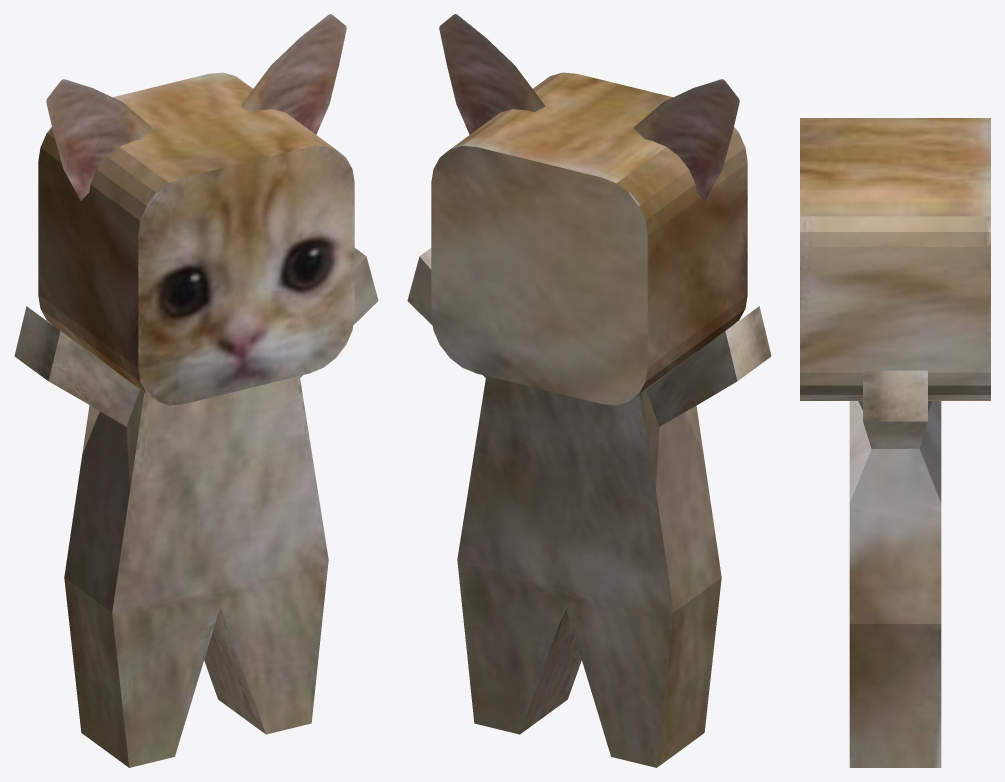
File: Cheering.fbx
3 views of the same model, side by side, from view 1: azimuth 30°, elevation 25°; view 2: azimuth 150°, elevation 25°; view 3: azimuth 270°, elevation 25° (orthographic). The views are drawn at different scales.
Parts seen in each view (by area): view 1: Body, head, ear.r, ear.l; view 2: Body, head, ear.r, ear.l; view 3: head, Body.
Part boxes in pixels (x1,y1,x2,y2): Body: (14, 248, 378, 767); head: (38, 72, 354, 405); ear.r: (46, 79, 152, 200); ear.l: (240, 14, 346, 134); Body: (407, 248, 771, 767); head: (431, 72, 747, 405); ear.r: (633, 79, 739, 200); ear.l: (439, 14, 545, 134); head: (800, 118, 990, 400); Body: (849, 370, 941, 767).
Size of the model in its own units: 3.05 by 6.02 by 1.6.
1 material, 1 textured.
